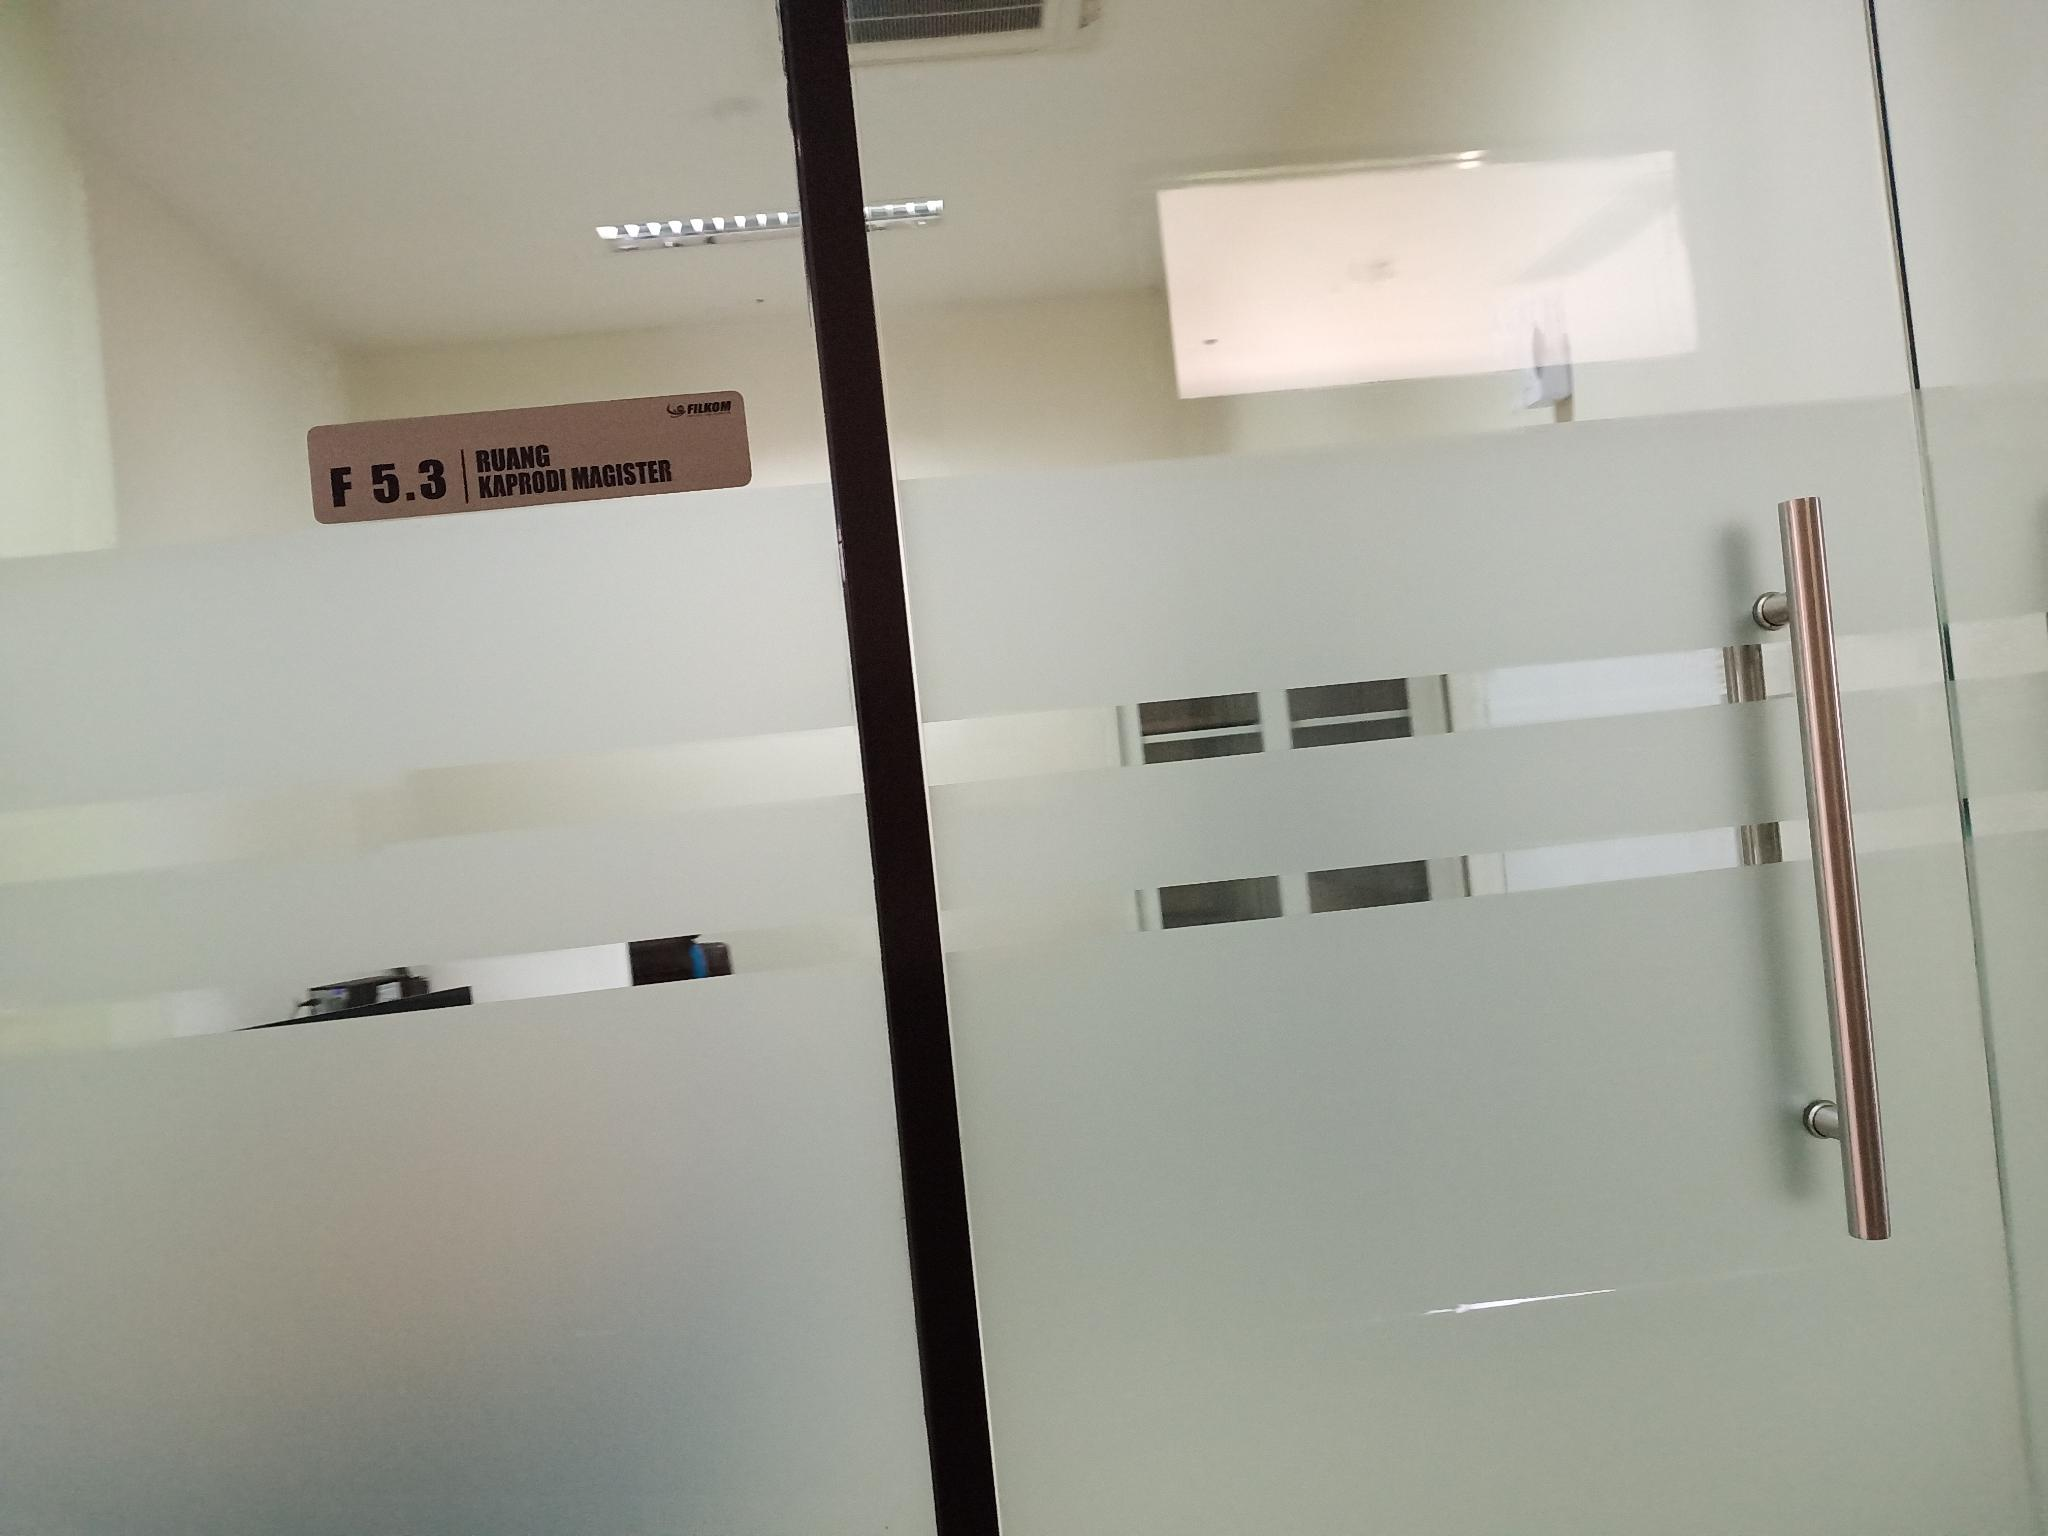plate: (306, 387, 753, 526)
